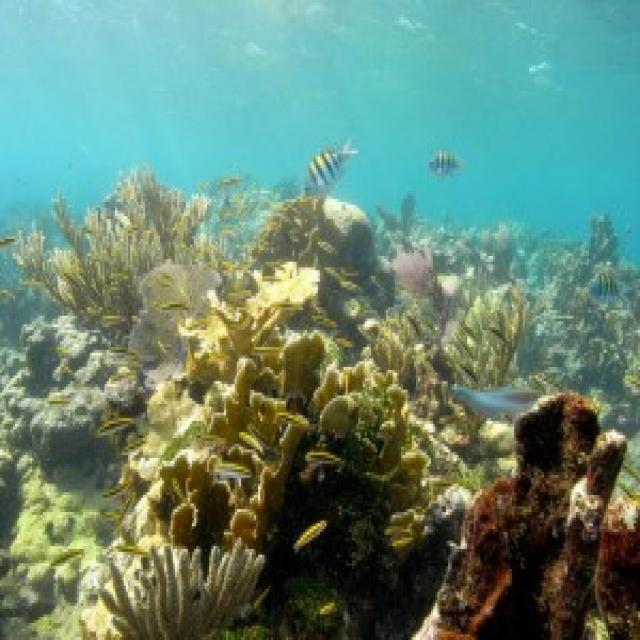Bleached: (101, 544, 263, 638)
Healthy: (112, 266, 447, 607), (434, 394, 626, 638), (16, 172, 219, 342), (364, 283, 536, 388)
